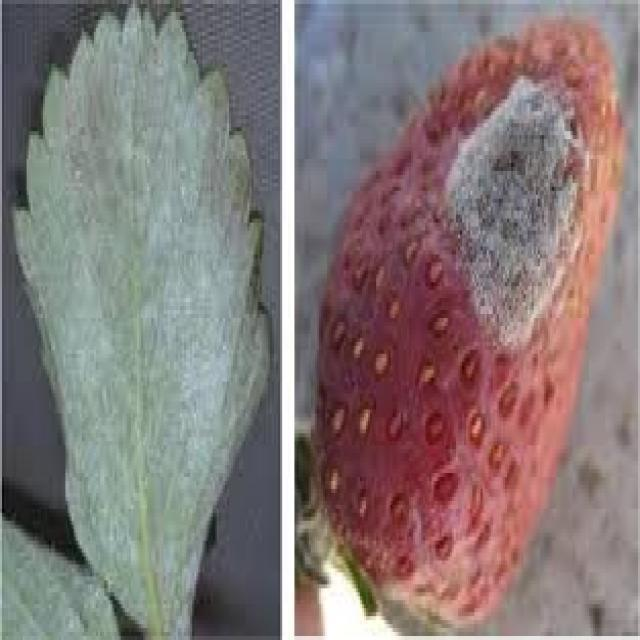Moho gris: (311, 28, 617, 612)
